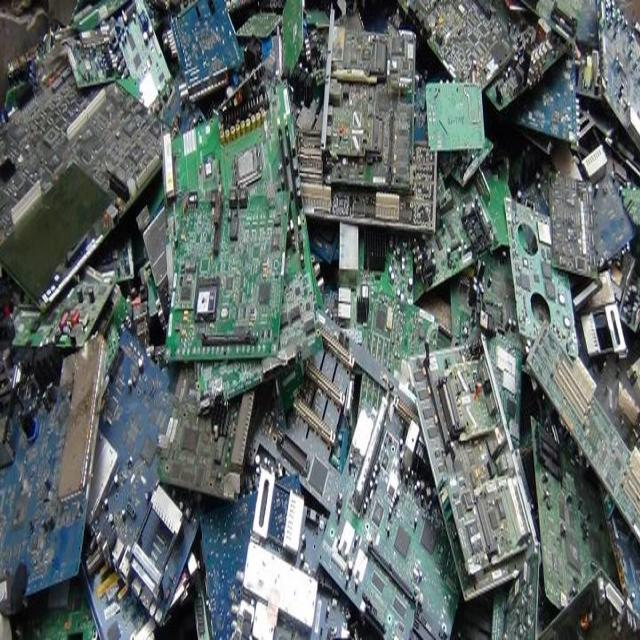hazard: (0, 5, 624, 631)
